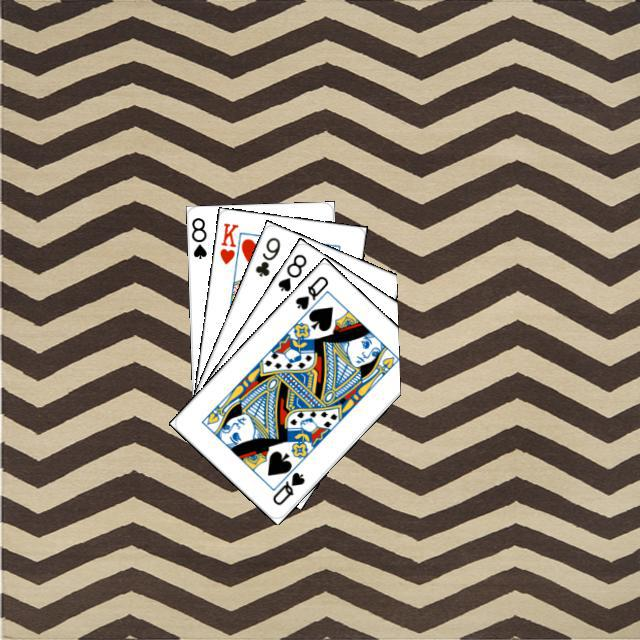8s: (273, 249, 309, 293), (187, 213, 208, 261)
9c: (250, 232, 282, 278)
Kh: (215, 218, 245, 271)
Qs: (290, 271, 330, 311), (267, 467, 307, 507)
